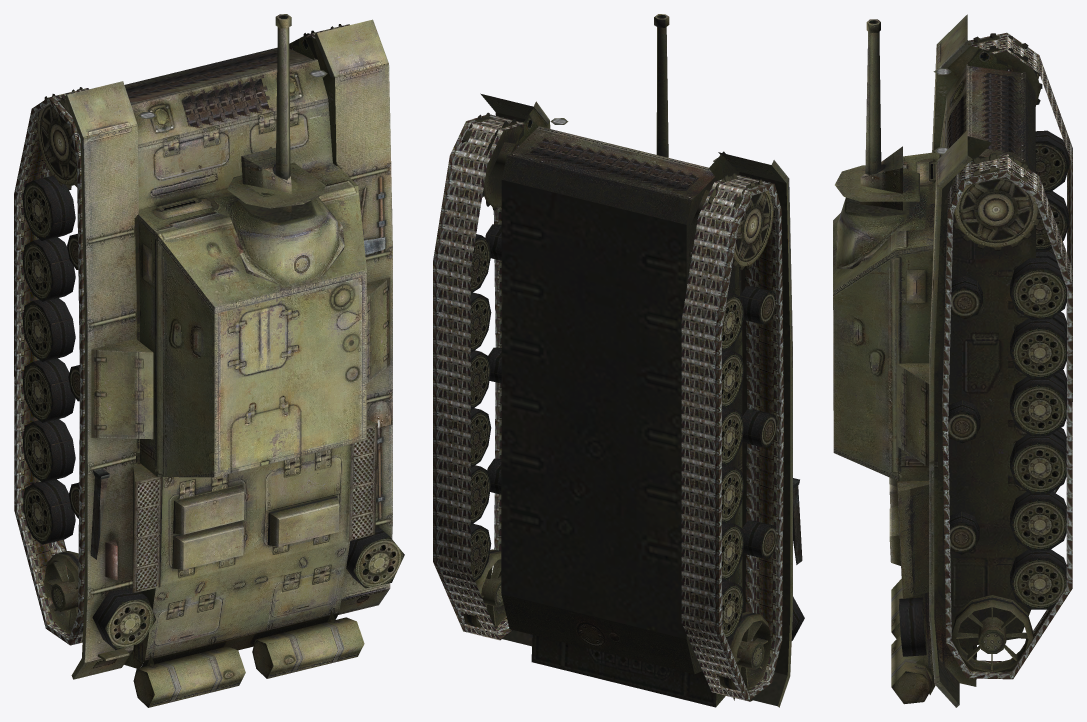
The picture shows the model from 3 angles, left to right: view 1: azimuth 30°, elevation 25°; view 2: azimuth 150°, elevation 25°; view 3: azimuth 270°, elevation 25°; orthographic projection. The views are drawn at different scales.
Parts seen in each view (by area): view 1: hull, chassis_track_L, gun_01, chassis_wheel_L_04, chassis_wheel_L_06, chassis_wheel_L_02, chassis_wheel_L_07, chassis_wheel_L_03, chassis_wheel_L_05, chassis_wheel_L_01, chassis_wheel_L_08; view 2: hull, chassis_track_L, chassis_track_R, chassis_wheel_L_01, chassis_wheel_L_08, gun_01, chassis_wheel_R_08, chassis_wheel_R_01, chassis_wheel_L_10, chassis_wheel_L_11, chassis_wheel_L_09, chassis_wheel_L_05 (+11 smaller); view 3: hull, chassis_track_R, gun_01, chassis_wheel_R_01, chassis_wheel_R_08, chassis_wheel_R_03, chassis_wheel_R_02, chassis_wheel_R_05, chassis_wheel_R_04, chassis_wheel_R_06, chassis_wheel_R_07, chassis_track_L (+6 smaller).
Boxes of the visible parts, x1,y1,x2,y2 form: hull: [64, 19, 404, 707]; chassis_track_L: [14, 88, 88, 645]; gun_01: [227, 14, 325, 212]; chassis_wheel_L_04: [23, 298, 75, 361]; chassis_wheel_L_06: [23, 419, 75, 482]; chassis_wheel_L_02: [23, 175, 75, 240]; chassis_wheel_L_07: [23, 479, 75, 544]; chassis_wheel_L_03: [23, 237, 75, 301]; chassis_wheel_L_05: [23, 358, 75, 422]; chassis_wheel_L_01: [37, 87, 82, 189]; chassis_wheel_L_08: [44, 551, 78, 634]; hull: [480, 93, 804, 707]; chassis_track_L: [681, 174, 783, 700]; chassis_track_R: [433, 114, 524, 640]; chassis_wheel_L_01: [704, 173, 773, 270]; chassis_wheel_L_08: [719, 611, 771, 690]; gun_01: [654, 14, 669, 157]; chassis_wheel_R_08: [463, 549, 506, 627]; chassis_wheel_R_01: [457, 112, 522, 210]; chassis_wheel_L_10: [742, 409, 776, 447]; chassis_wheel_L_11: [742, 520, 775, 558]; chassis_wheel_L_09: [739, 286, 774, 324]; chassis_wheel_L_05: [722, 465, 744, 524]; hull: [833, 14, 1035, 707]; chassis_track_R: [942, 154, 1072, 679]; gun_01: [835, 19, 919, 210]; chassis_wheel_R_01: [951, 153, 1040, 250]; chassis_wheel_R_08: [951, 595, 1033, 672]; chassis_wheel_R_03: [1010, 318, 1066, 378]; chassis_wheel_R_02: [1010, 257, 1066, 319]; chassis_wheel_R_05: [1010, 434, 1066, 493]; chassis_wheel_R_04: [1010, 376, 1066, 435]; chassis_wheel_R_06: [1010, 491, 1066, 550]; chassis_wheel_R_07: [1010, 549, 1066, 609]; chassis_track_L: [969, 32, 1072, 492].
Size of the model in its own units: 3.02 by 6.36 by 2.16.
Materials: 2 (2 with a texture image).
